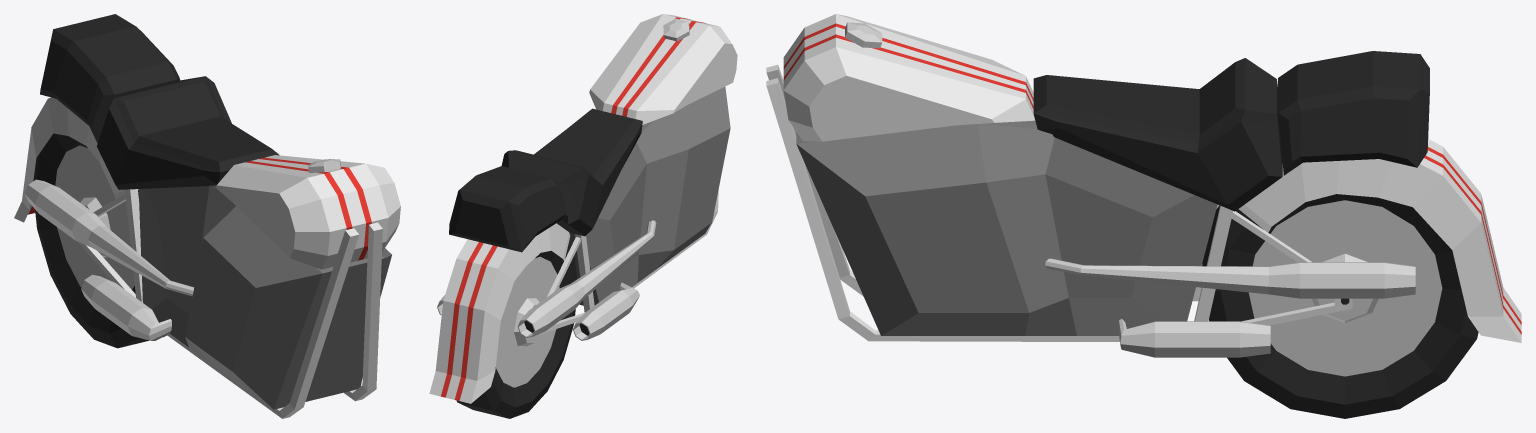
File: Motorcycle_02.fbx
The picture shows the model from 3 angles, left to right: view 1: azimuth 30°, elevation 25°; view 2: azimuth 150°, elevation 25°; view 3: azimuth 270°, elevation 25°; orthographic projection. The views are drawn at different scales.
Visible parts, largest first — view 1: Motorcycle_02; view 2: Motorcycle_02; view 3: Motorcycle_02.
Part boxes in pixels (x1,y1,x2,y2): Motorcycle_02: (14, 14, 400, 418); Motorcycle_02: (429, 14, 737, 418); Motorcycle_02: (766, 14, 1521, 418).
Size of the model in its own units: 61.69 by 135 by 244.
